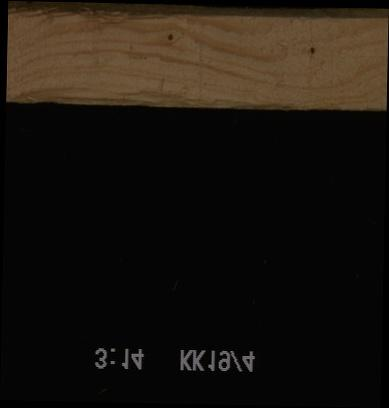small_knot: (165, 32, 174, 43), (307, 45, 316, 56)
